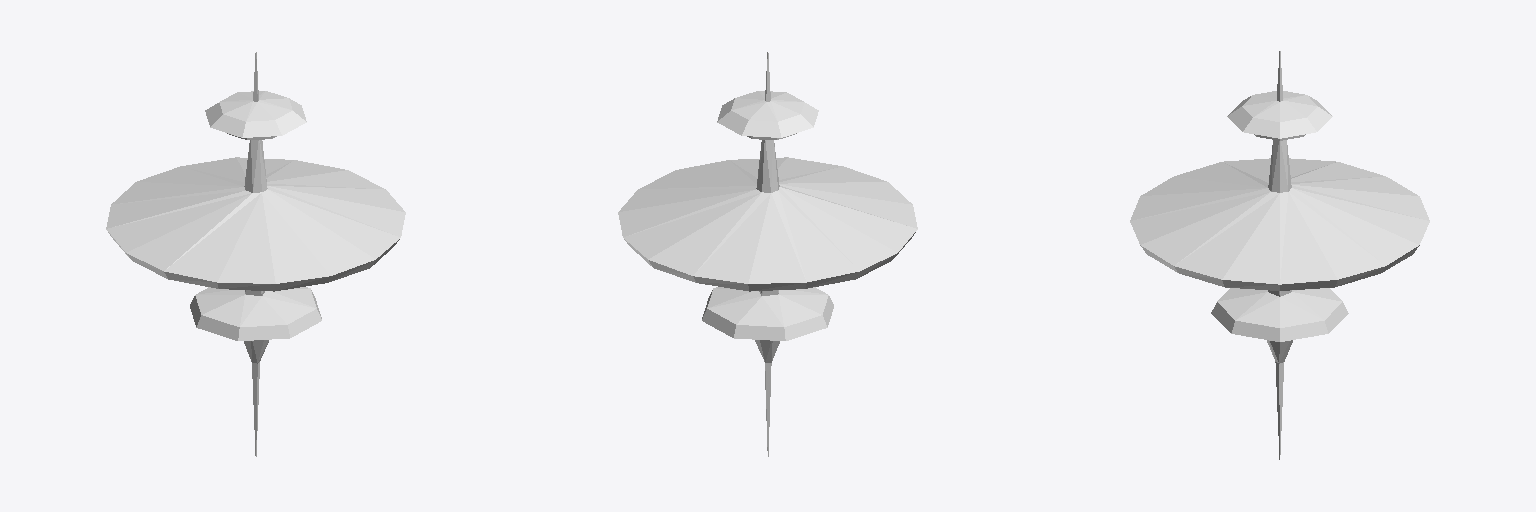
File: spaceStation.obj
3 renders of one model, left to right at view 1: azimuth 30°, elevation 25°; view 2: azimuth 150°, elevation 25°; view 3: azimuth 270°, elevation 25°, orthographic.
Visible parts, largest first — view 1: Space_station_mesh; view 2: Space_station_mesh; view 3: Space_station_mesh.
Part boxes in pixels (x1,y1,x2,y2): Space_station_mesh: (106,52,405,456); Space_station_mesh: (618,52,917,456); Space_station_mesh: (1130,51,1429,459).
Size of the model in its own units: 211 by 331 by 211.